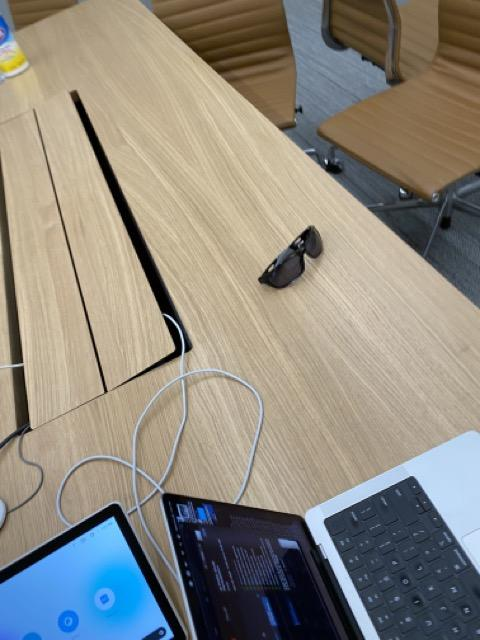Sunglasses: (256, 221, 326, 291)
